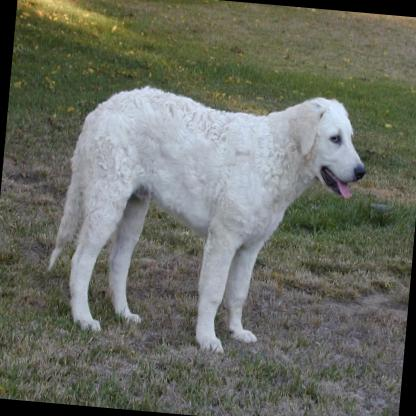kuvasz: (39, 70, 373, 368)
